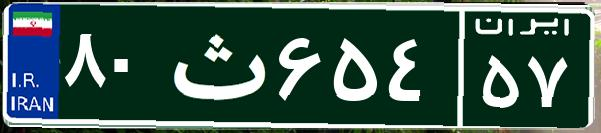0: (110, 28, 158, 105)
4: (385, 28, 445, 110)
5: (330, 28, 385, 110), (475, 38, 525, 113)
6: (273, 28, 330, 110)
7: (525, 38, 570, 115)
8: (57, 26, 110, 107)
ث: (158, 15, 273, 115)
